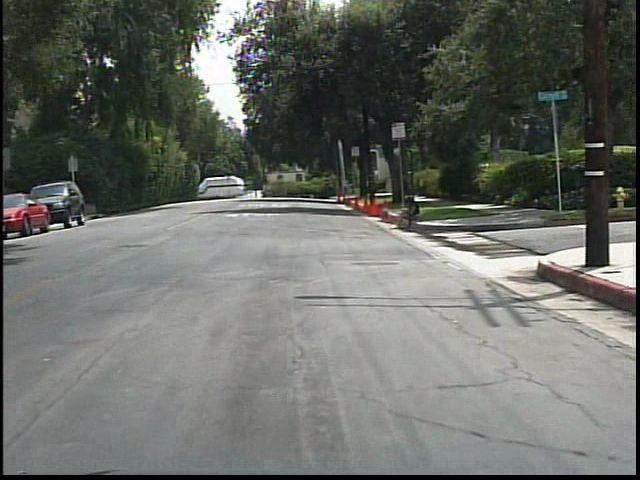person: (390, 191, 424, 235)
